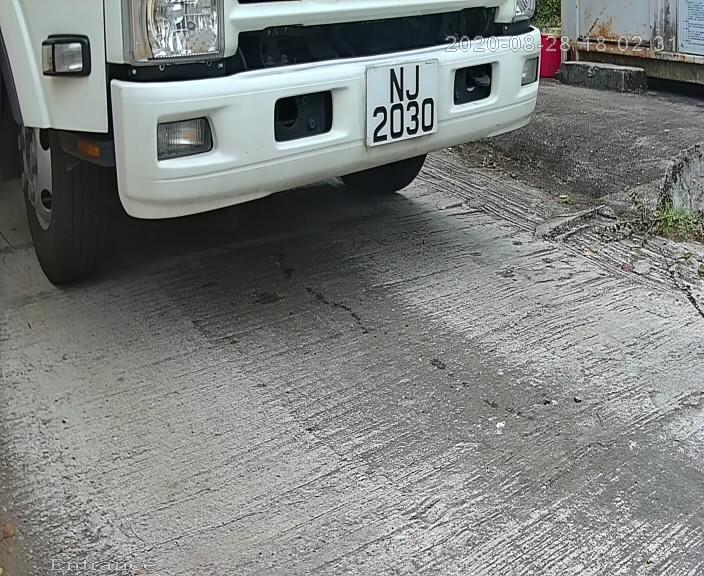License Plate: (331, 44, 456, 163)
